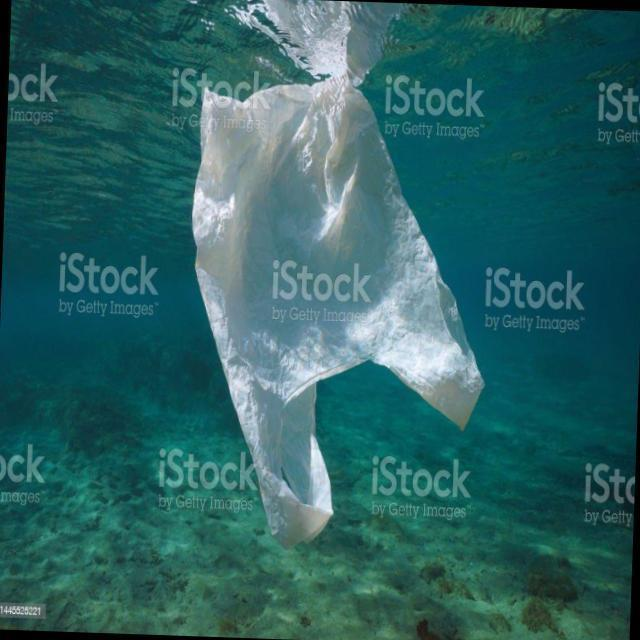KantongPlastik: (189, 0, 486, 548)
